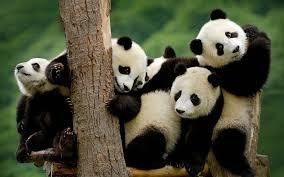bear: (190, 8, 271, 177), (46, 37, 153, 164), (123, 66, 223, 176), (14, 54, 72, 163)
